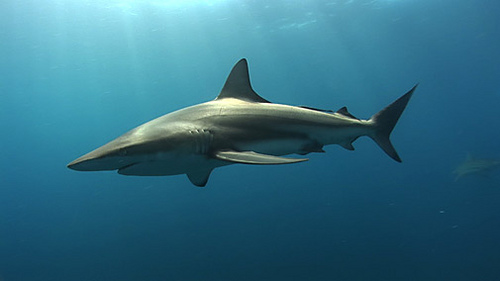shark: (48, 51, 443, 198)
